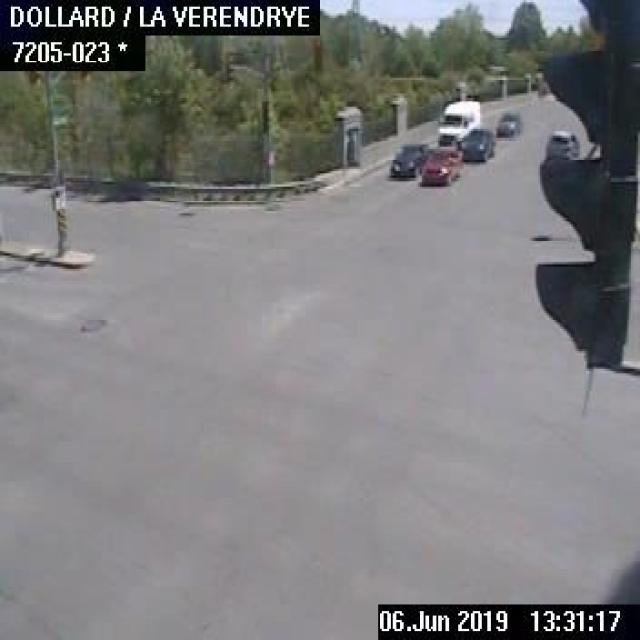vehicle: (435, 94, 480, 144), (419, 143, 464, 184), (387, 141, 425, 180), (458, 127, 496, 163), (544, 129, 580, 158), (494, 110, 523, 138)
